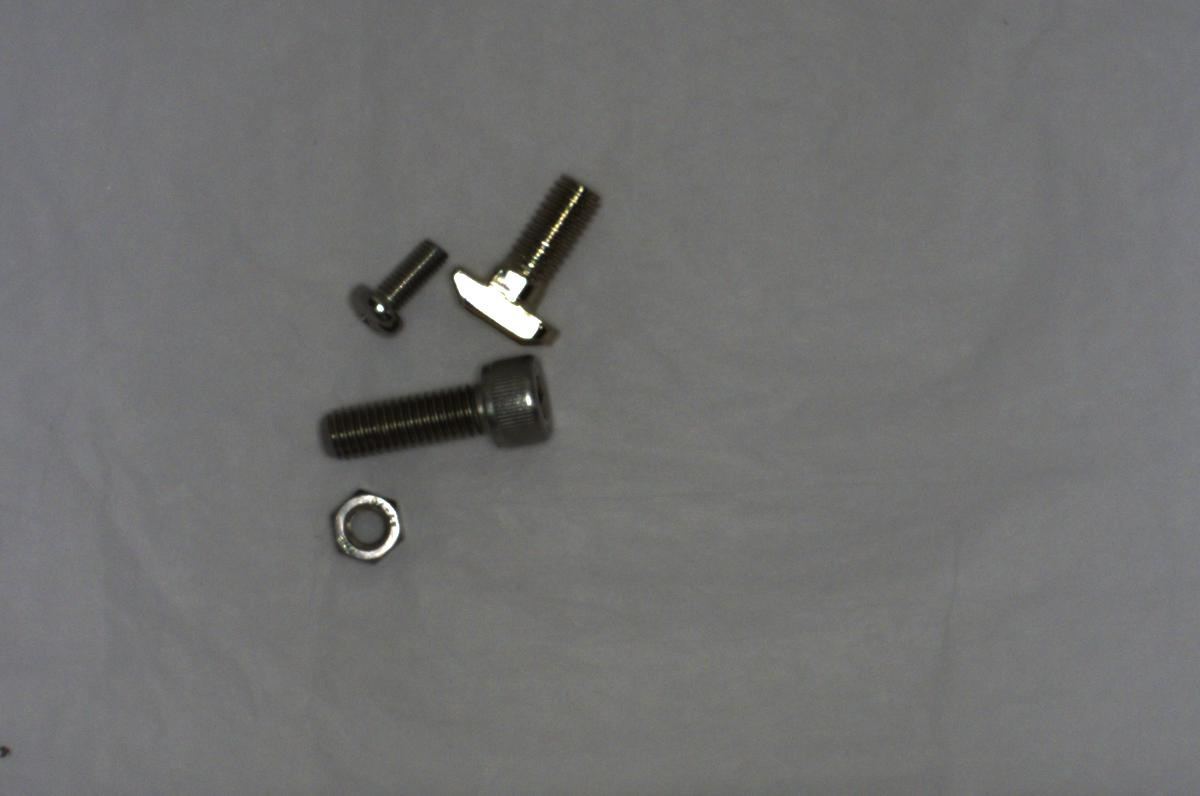Hexagon nut: (327, 482, 414, 570)
Hexagon screw: (308, 350, 558, 465)
Round head screw: (339, 222, 442, 333)
T-shaped screw: (451, 173, 598, 345)
